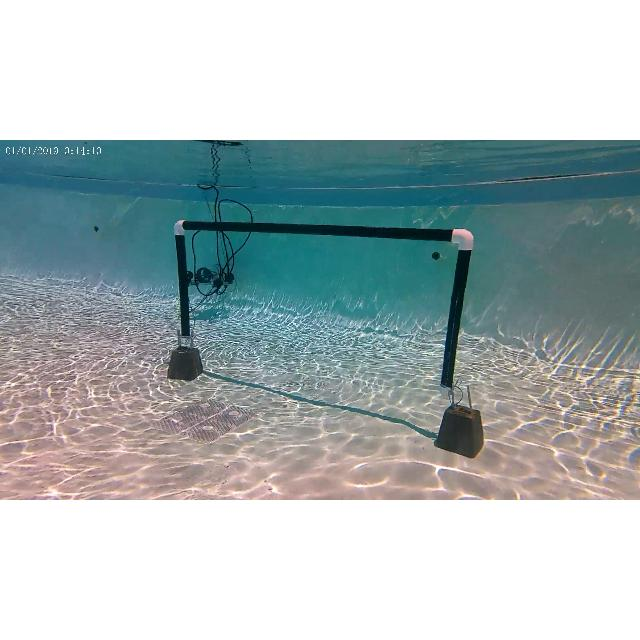prequal gate: (174, 220, 474, 396)
prequal gate leg l: (169, 218, 201, 339)
prequal gate leg r: (430, 224, 474, 394)
